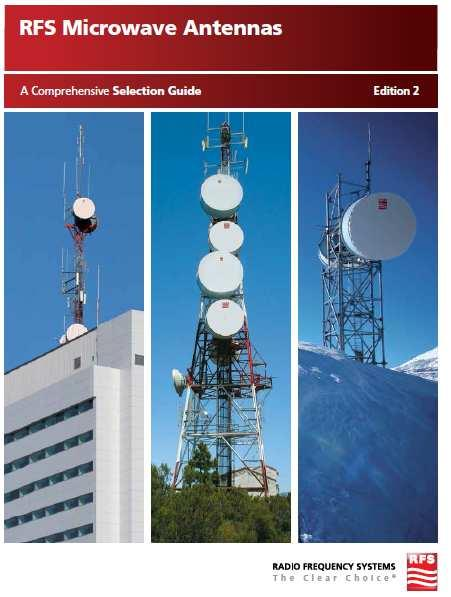ba: (334, 171, 421, 271), (190, 290, 263, 354), (185, 154, 253, 220), (189, 241, 248, 301), (67, 178, 103, 237)
